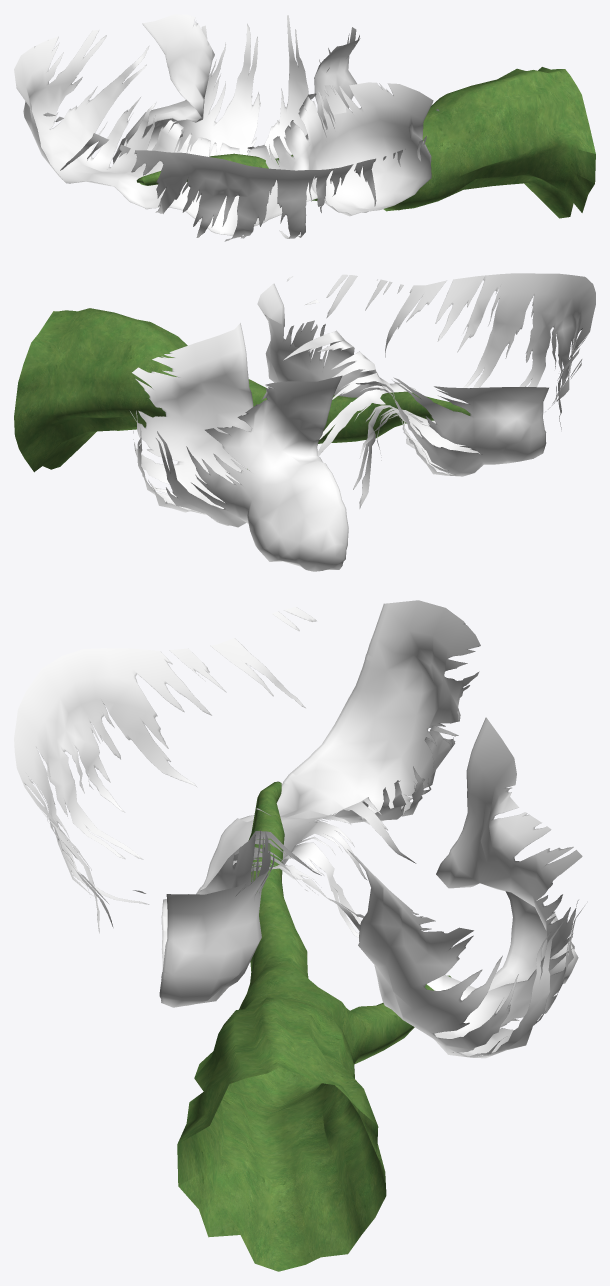
File: SM_ENV_KNFRST_Leaf_F.FBX
The picture shows the model from 3 angles, top to bottom: view 1: azimuth 30°, elevation 25°; view 2: azimuth 150°, elevation 25°; view 3: azimuth 270°, elevation 25°; orthographic projection. The views are drawn at different scales.
Visible parts, largest first — view 1: SM_ENV_KNFRST_Leaf_F; view 2: SM_ENV_KNFRST_Leaf_F; view 3: SM_ENV_KNFRST_Leaf_F.
Boxes of the visible parts, x1,y1,x2,y2 form: SM_ENV_KNFRST_Leaf_F: (14, 14, 595, 241); SM_ENV_KNFRST_Leaf_F: (14, 273, 595, 571); SM_ENV_KNFRST_Leaf_F: (14, 600, 584, 1271).
Size of the model in its own units: 4055 by 1772 by 2800.
